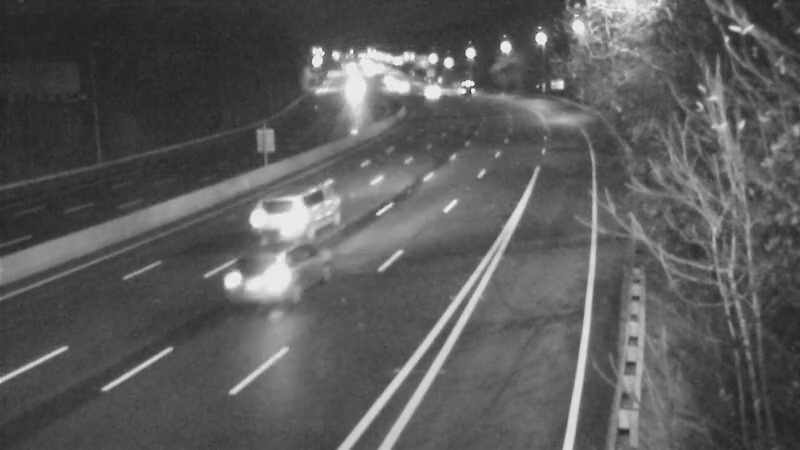vehicle: (233, 159, 313, 239), (233, 225, 313, 305), (441, 59, 491, 109), (406, 64, 456, 114), (326, 68, 376, 118)
